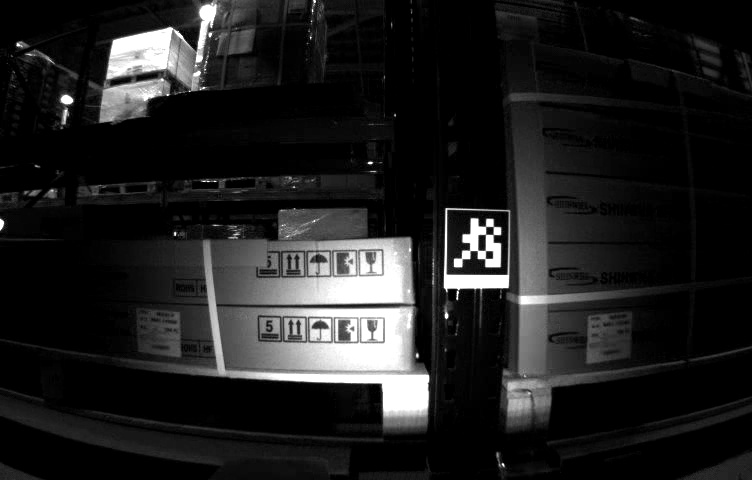True Barcode: (132, 306, 185, 360), (582, 311, 637, 363)
